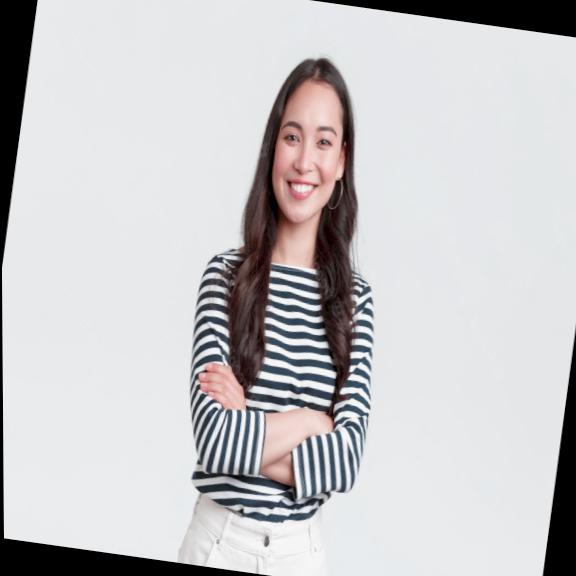no_safety_vest: (166, 240, 394, 522)
